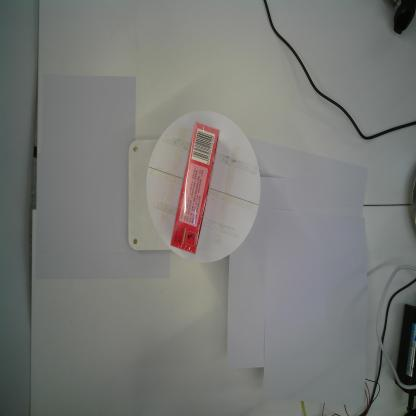Instant Drink: (170, 121, 220, 255)
